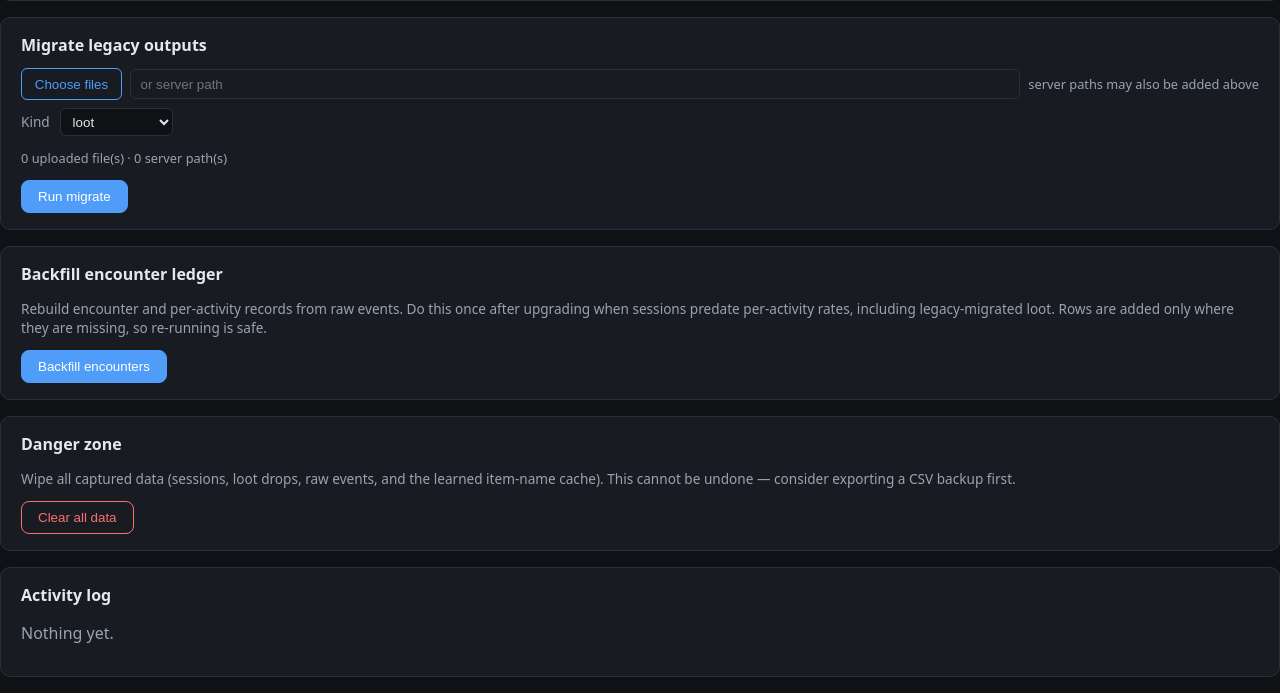
ImportExportPage › clears all data after confirming the dialog
(page scrolled)
Click the button "Clear all data" at (77, 518), box [21, 501, 134, 534]
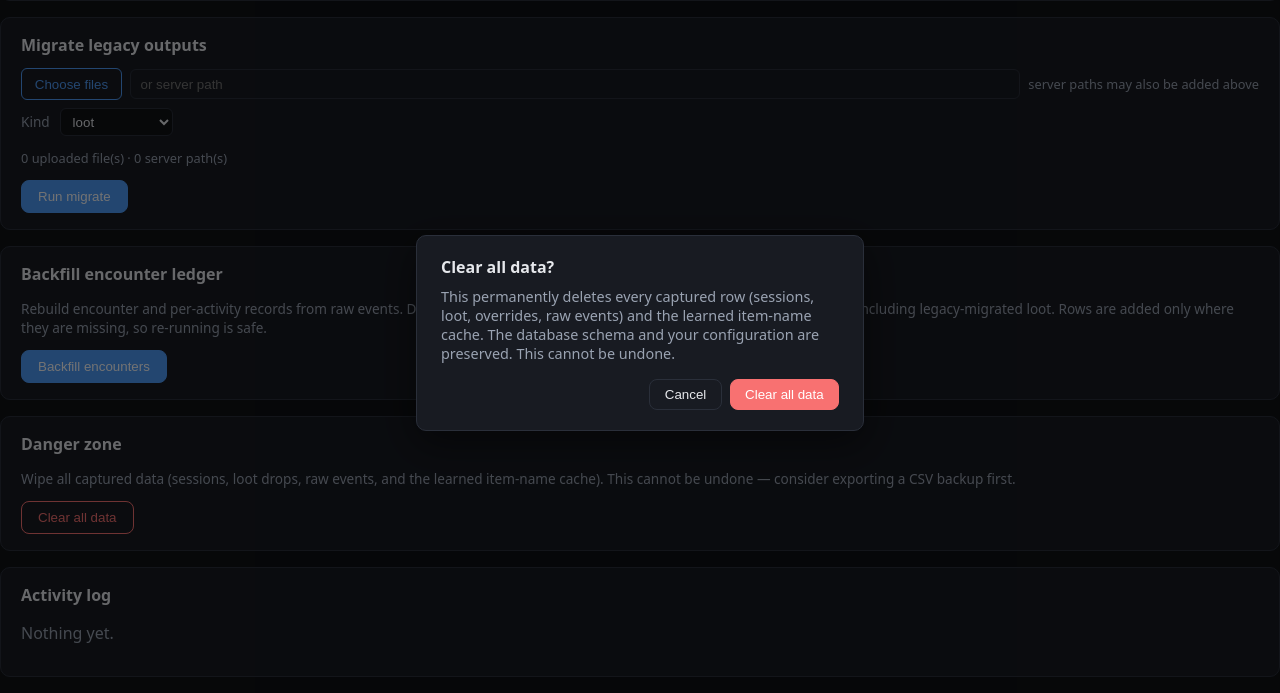
expect the heading "Clear all data?" is shown: met, box [441, 256, 554, 278]
Click the button "Clear all data" at (784, 395), box [730, 379, 839, 410]
(page scrolled)
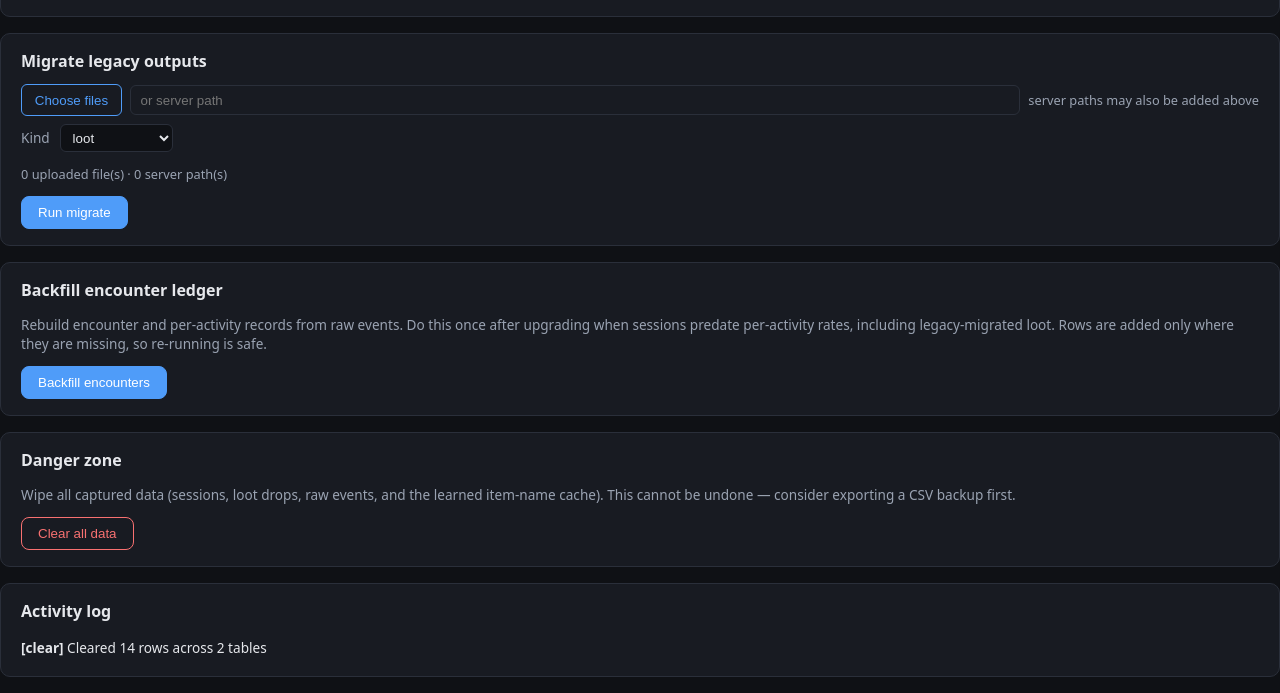
expect the text "Clear all data?" is not shown: met
expect the list item "[clear] Cleared 14 rows across 2 tables" is shown: met, box [21, 638, 267, 657]
